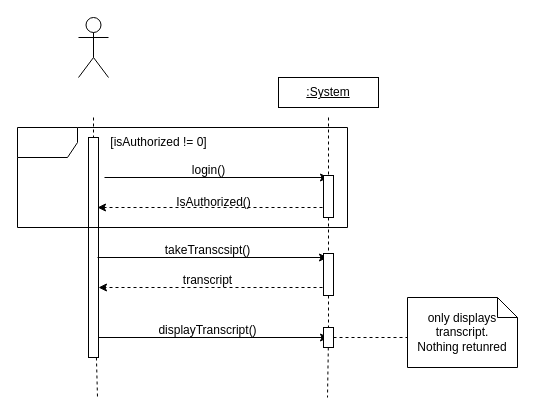
This 535x416 diagram has some shape labels left out. The shapes that lost their labels are listed below. From the top down, each one's box as (x1, y1, x2, y2) in pixels, then its label:
(78, 16, 108, 78): :Student
(16, 126, 348, 228): Loop
